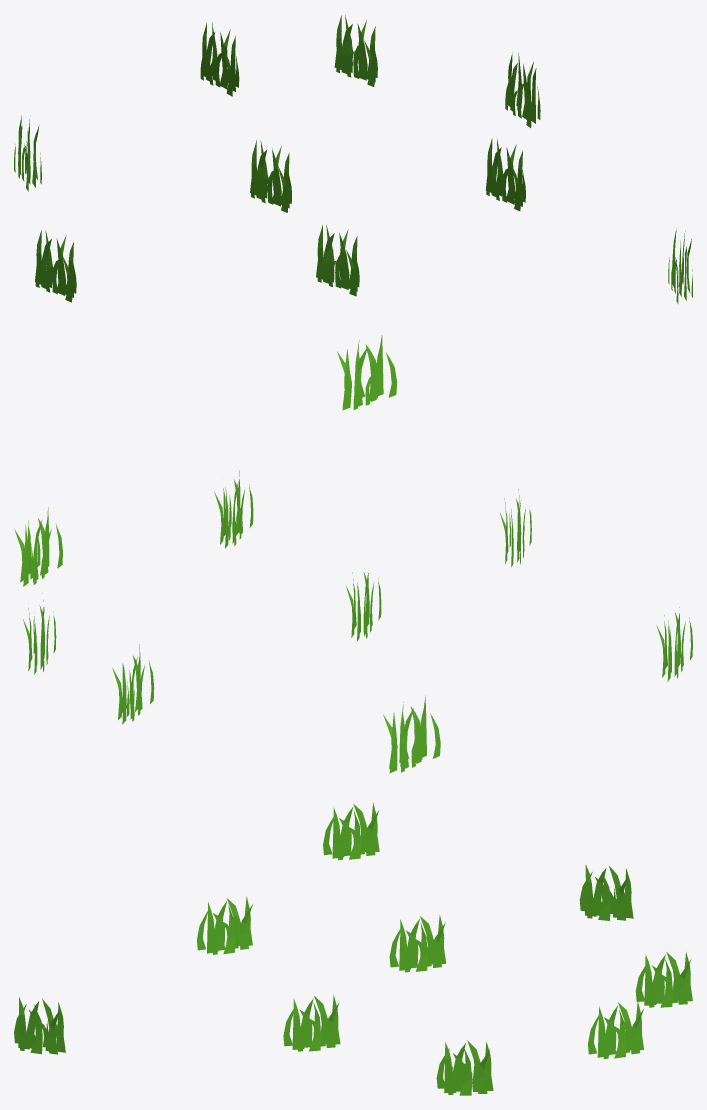
File: Grass2ALOT.fbx
3 renders of one model, top to bottom at view 1: azimuth 30°, elevation 25°; view 2: azimuth 150°, elevation 25°; view 3: azimuth 270°, elevation 25°, orthographic. The views are drawn at different scales.
Visible parts, largest first — view 1: Plane.003, Plane.007, Plane.006, Plane.005, Plane.001, Plane.000, Plane.002, Plane.008, Plane.004; view 2: Plane.004, Plane.008, Plane.002, Plane.000, Plane.001, Plane.005, Plane.006, Plane.007, Plane.003; view 3: Plane.000, Plane.002, Plane.001, Plane.005, Plane.006, Plane.008, Plane.007, Plane.003, Plane.004.
Boxes of the visible parts, left/top/right/bottom form: Plane.003: left=316, top=225, right=359, bottom=296; Plane.007: left=334, top=15, right=377, bottom=86; Plane.006: left=250, top=140, right=291, bottom=212; Plane.005: left=35, top=230, right=76, bottom=302; Plane.001: left=486, top=137, right=525, bottom=211; Plane.000: left=200, top=22, right=239, bottom=96; Plane.002: left=505, top=52, right=540, bottom=127; Plane.008: left=14, top=115, right=41, bottom=191; Plane.004: left=668, top=229, right=692, bottom=304; Plane.004: left=337, top=335, right=397, bottom=410; Plane.008: left=383, top=695, right=440, bottom=773; Plane.002: left=14, top=507, right=62, bottom=586; Plane.000: left=112, top=644, right=154, bottom=724; Plane.001: left=214, top=470, right=253, bottom=548; Plane.005: left=656, top=607, right=692, bottom=681; Plane.006: left=346, top=572, right=381, bottom=641; Plane.007: left=23, top=593, right=56, bottom=674; Plane.003: left=500, top=489, right=531, bottom=567; Plane.000: left=635, top=952, right=692, bottom=1007; Plane.002: left=436, top=1040, right=493, bottom=1095; Plane.001: left=283, top=995, right=340, bottom=1051; Plane.005: left=323, top=802, right=379, bottom=860; Plane.006: left=389, top=914, right=446, bottom=972; Plane.008: left=579, top=864, right=633, bottom=920; Plane.007: left=588, top=1001, right=644, bottom=1059; Plane.003: left=197, top=897, right=252, bottom=954; Plane.004: left=14, top=997, right=65, bottom=1054.
Size of the model in its own units: 347 by 49.58 by 401.
